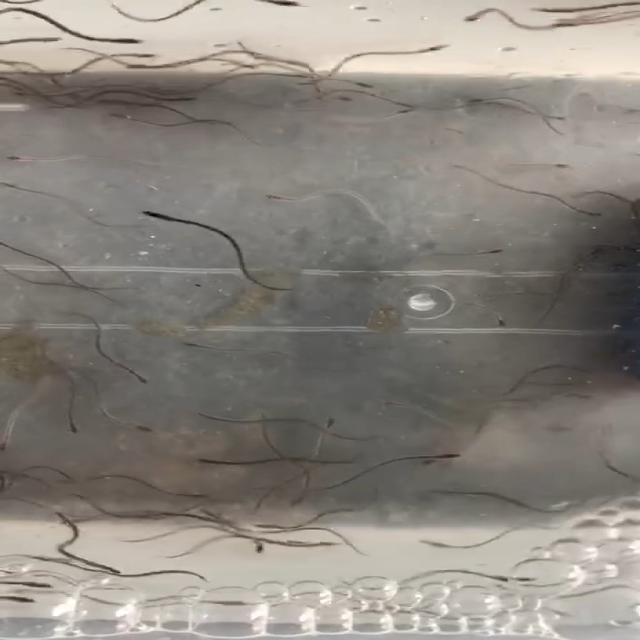active_glass_eel: (524, 0, 582, 17), (120, 47, 171, 65), (153, 90, 204, 107), (57, 415, 92, 439), (493, 566, 534, 586), (254, 518, 304, 534), (214, 592, 253, 612), (24, 31, 74, 46), (133, 371, 167, 393), (11, 579, 60, 594), (280, 497, 324, 513), (140, 210, 188, 224), (544, 112, 585, 128), (146, 550, 200, 562), (190, 451, 226, 469), (178, 334, 210, 354), (28, 550, 68, 566), (258, 0, 311, 12), (113, 32, 148, 50), (569, 592, 608, 608), (482, 238, 516, 256), (412, 536, 459, 549), (126, 532, 166, 547), (119, 417, 150, 436), (0, 486, 26, 508), (547, 160, 590, 173), (458, 12, 497, 26), (179, 487, 215, 502), (36, 85, 64, 104), (415, 43, 459, 55), (263, 190, 296, 206), (236, 543, 271, 558), (316, 416, 342, 436), (232, 59, 266, 74), (437, 450, 467, 467), (544, 421, 578, 436), (482, 313, 515, 328), (102, 110, 137, 124), (386, 101, 413, 119), (600, 191, 640, 203), (0, 593, 32, 608), (609, 361, 640, 376), (0, 434, 20, 457), (125, 95, 152, 112), (100, 562, 122, 582), (183, 515, 219, 527), (313, 539, 346, 552), (318, 90, 350, 103), (542, 18, 575, 30), (456, 95, 492, 106), (592, 94, 623, 106), (378, 397, 408, 409), (577, 208, 603, 221), (0, 179, 25, 192), (242, 42, 271, 53), (345, 77, 374, 88), (8, 153, 43, 162), (17, 67, 48, 77)
